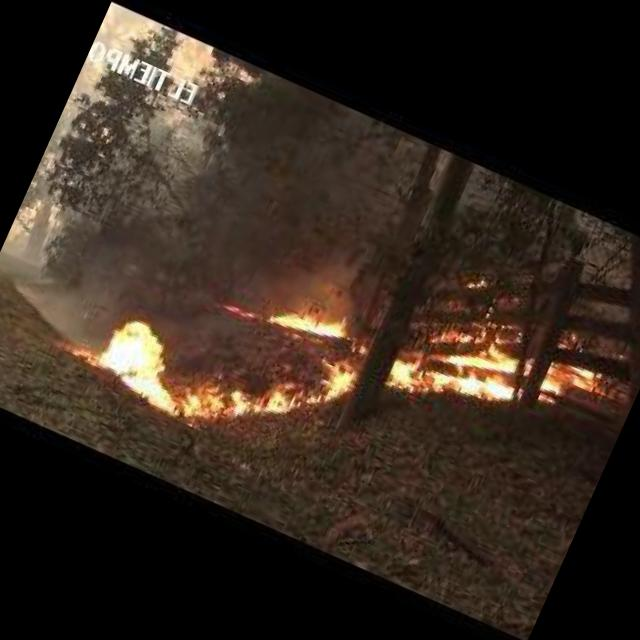fire: (88, 306, 304, 456), (384, 304, 526, 429), (270, 290, 354, 352), (536, 349, 608, 418), (305, 348, 361, 414), (220, 295, 256, 322), (464, 268, 491, 294), (558, 328, 579, 354)
